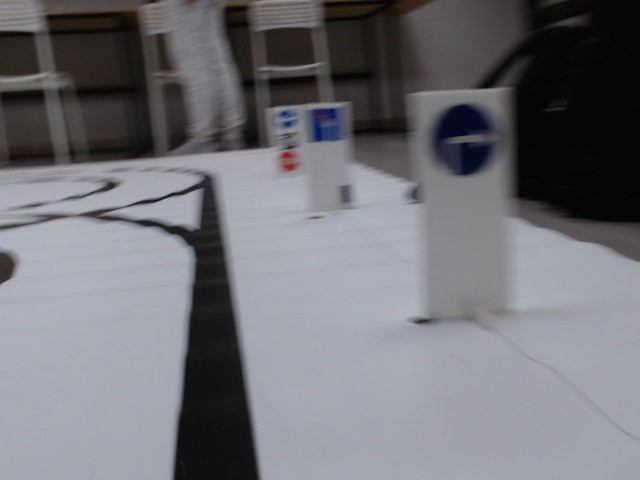Right: (432, 105, 499, 178)
priority_movement: (306, 106, 348, 144)
